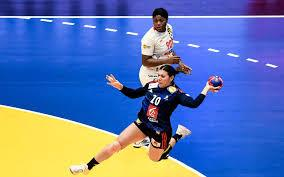ballon_handball: (208, 76, 223, 93)
